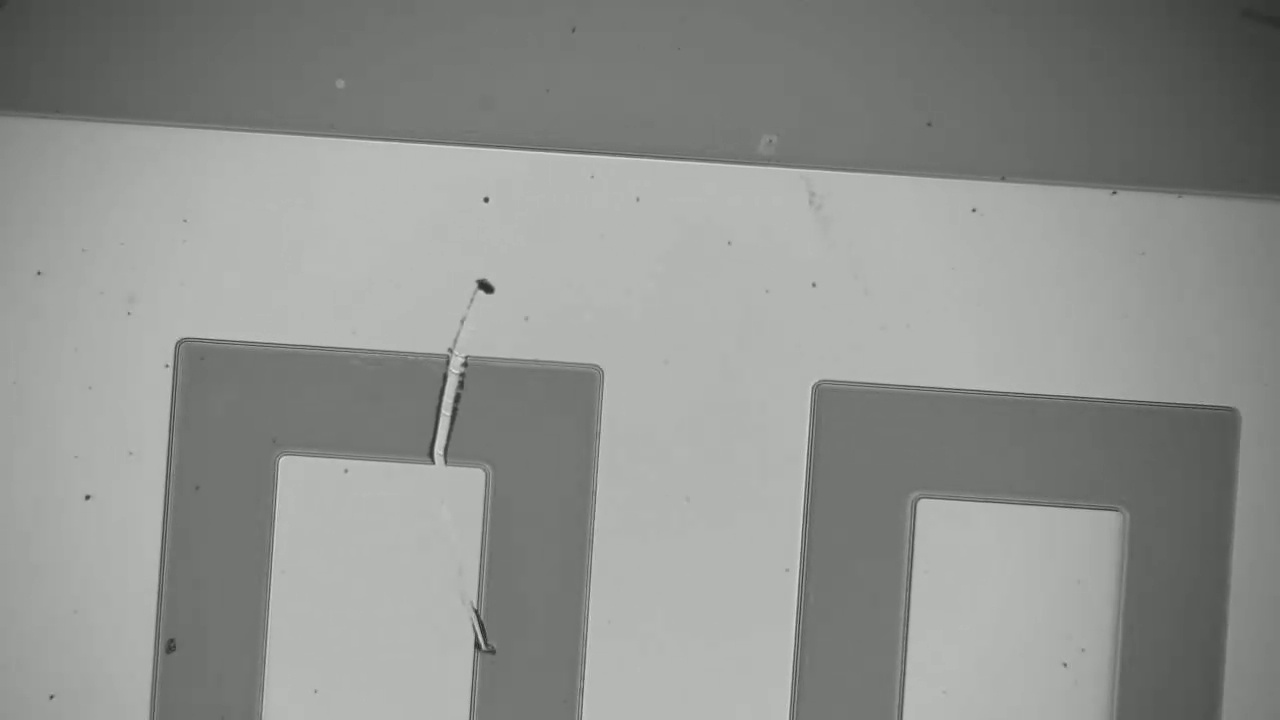Short_circuit: (398, 330, 485, 482)
